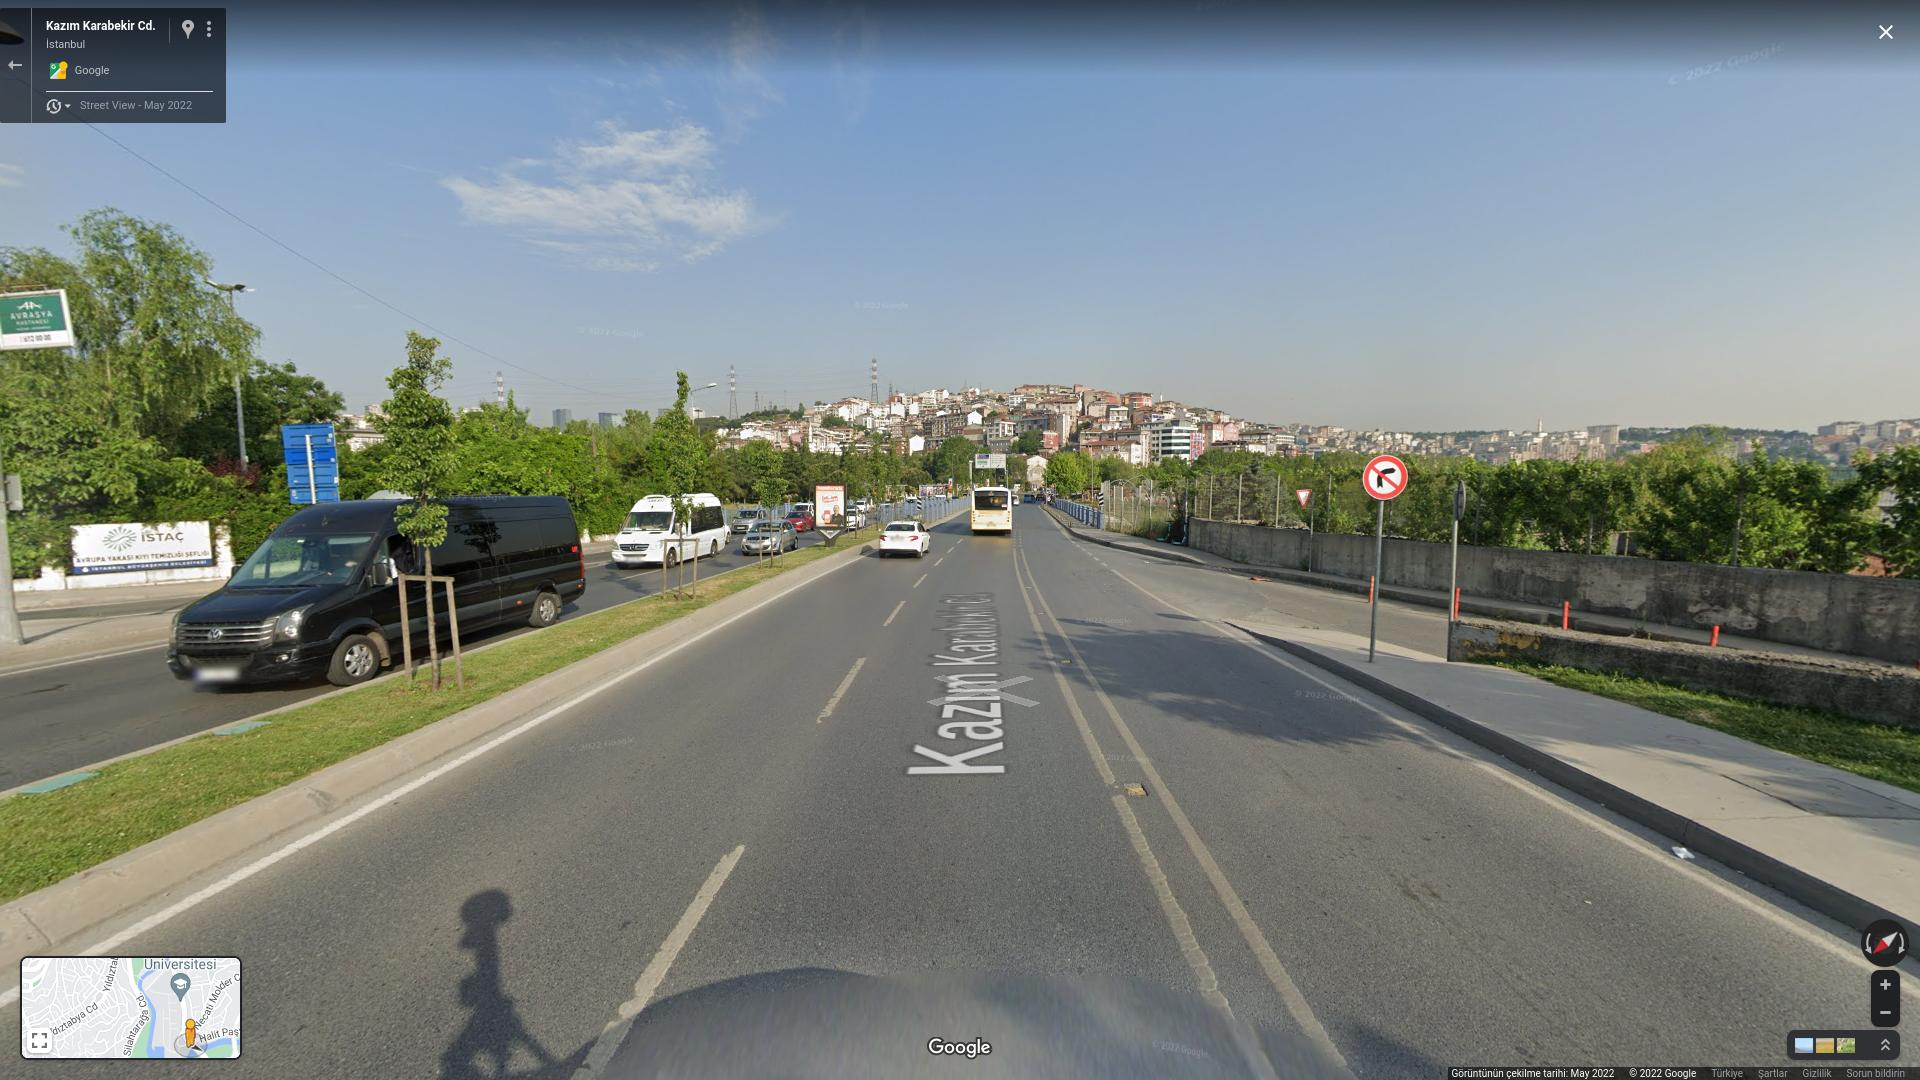rightturnsareforbidden: (1364, 459, 1408, 500)
